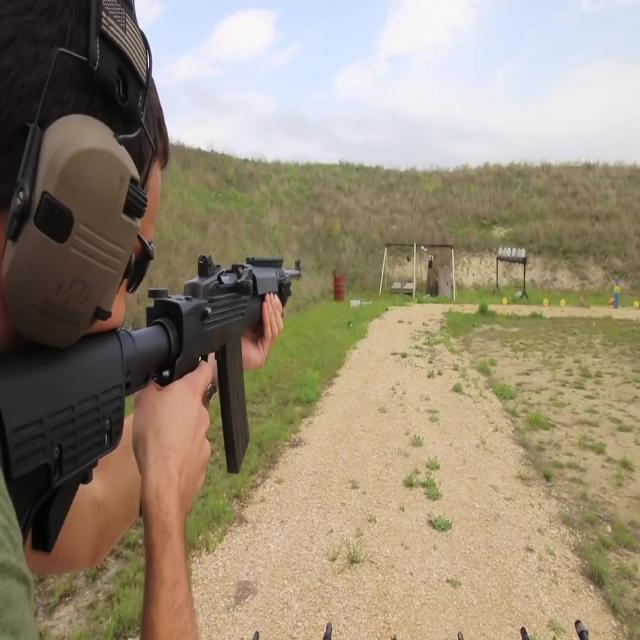Weapon: (5, 179, 334, 562), (511, 616, 548, 640), (570, 607, 591, 640), (450, 613, 472, 640), (313, 618, 336, 640), (249, 623, 270, 640), (386, 626, 404, 640)
